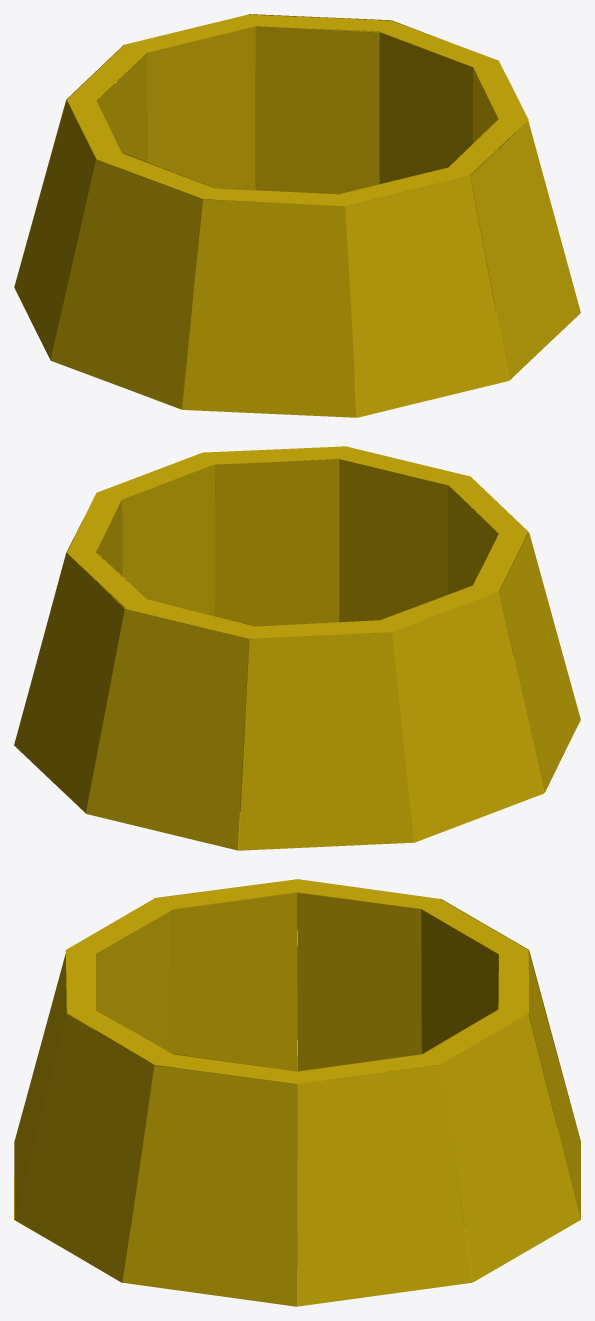
File: original_3.obj
3 views of the same model, one above another, from view 1: azimuth 30°, elevation 25°; view 2: azimuth 150°, elevation 25°; view 3: azimuth 270°, elevation 25° (orthographic). The views are drawn at different scales.
Visible parts, largest first — view 1: #ID109; view 2: #ID109; view 3: #ID109.
Boxes of the visible parts, left/top/right/bottom form: #ID109: left=14, top=14, right=580, bottom=417; #ID109: left=14, top=446, right=580, bottom=850; #ID109: left=14, top=879, right=580, bottom=1306.
Size of the model in its own units: 0.168 by 0.0622 by 0.1597.
